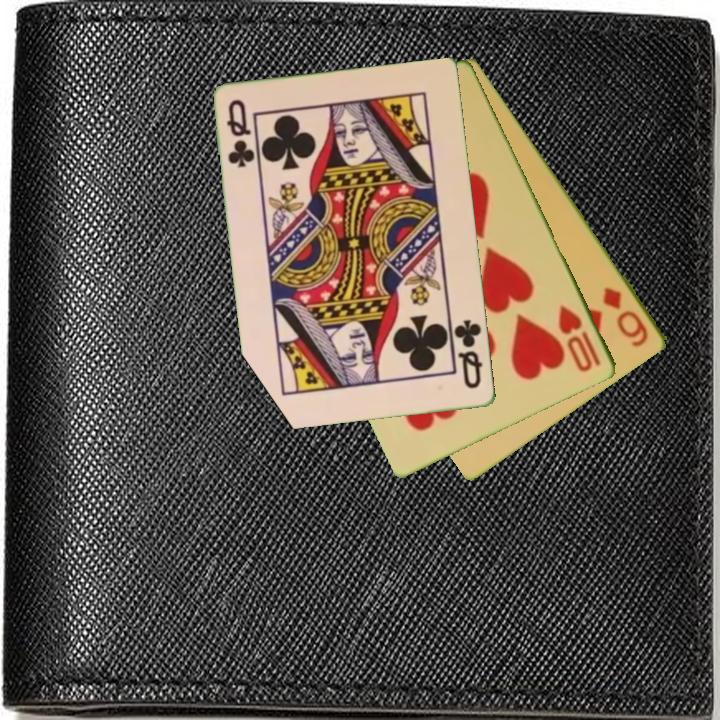10h: (555, 301, 605, 375)
6d: (599, 283, 652, 350)
Qc: (448, 316, 486, 392), (223, 96, 258, 171)
